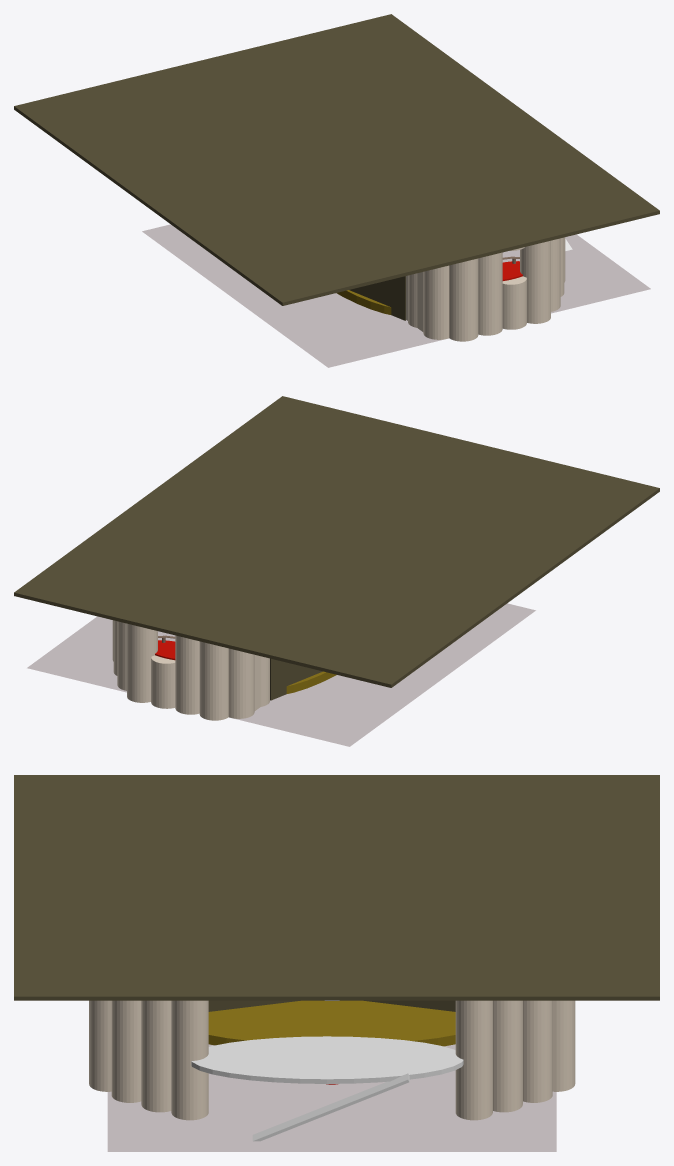
Rendered from theater.dae.
3 renders of one model, top to bottom at view 1: azimuth 30°, elevation 25°; view 2: azimuth 150°, elevation 25°; view 3: azimuth 270°, elevation 25°, orthographic. The views are drawn at different scales.
Visible parts, largest first — view 1: roof, floor, Cylinder_003, BoothLeftLeft, BoothLeftRight_001, Cylinder_002, BoothLeftMidBot_001, Cube_005, Cylinder_016, Cube_001, stage, Cylinder_001; view 2: roof, floor, Cylinder_007, BoothLeftLeft_001, BoothLeftRight, Cylinder_005, BoothLeftMidBot, Cube_003, Cylinder_013; view 3: roof, floor, balcony, stage, Cylinder_014, Cylinder_018, Cylinder_017, Cylinder_012, Cylinder_016, Cylinder_013, BoothLeftLeft_001, BoothLeftLeft (+3 smaller).
Part boxes in pixels (x1,y1,x2,y2): roof: (14, 14, 659, 305); floor: (142, 224, 650, 367); Cylinder_003: (449, 258, 478, 341); BoothLeftLeft: (520, 240, 550, 323); BoothLeftRight_001: (478, 252, 502, 335); Cylinder_002: (423, 265, 449, 339); BoothLeftMidBot_001: (502, 276, 526, 329); Cube_005: (349, 276, 405, 320); Cylinder_016: (551, 238, 560, 311); Cube_001: (406, 270, 432, 338); stage: (336, 290, 391, 314); Cylinder_001: (408, 273, 417, 327); roof: (14, 396, 659, 687); floor: (27, 603, 535, 746); Cylinder_007: (199, 641, 228, 720); BoothLeftLeft_001: (127, 623, 157, 702); BoothLeftRight: (175, 635, 199, 714); Cylinder_005: (228, 648, 254, 718); BoothLeftMidBot: (151, 655, 175, 708); Cube_003: (270, 658, 322, 700); Cylinder_013: (117, 621, 126, 690); roof: (14, 775, 659, 1000); floor: (107, 1044, 556, 1151); balcony: (191, 1036, 463, 1083); stage: (208, 1000, 455, 1046); Cylinder_014: (455, 1000, 492, 1120); Cylinder_018: (171, 1000, 208, 1120); Cylinder_017: (141, 1000, 171, 1112); Cylinder_012: (493, 1000, 522, 1112); Cylinder_016: (111, 1000, 141, 1102); Cylinder_013: (523, 1000, 552, 1102); BoothLeftLeft_001: (552, 1000, 575, 1091); BoothLeftLeft: (89, 1000, 111, 1091).
Bounding box in the file's own units: 75.73 × 86.38 × 21.31.
